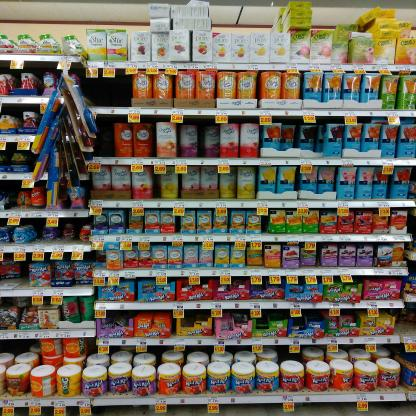empty_space: (108, 79, 128, 109), (97, 124, 112, 159), (89, 78, 105, 110)
